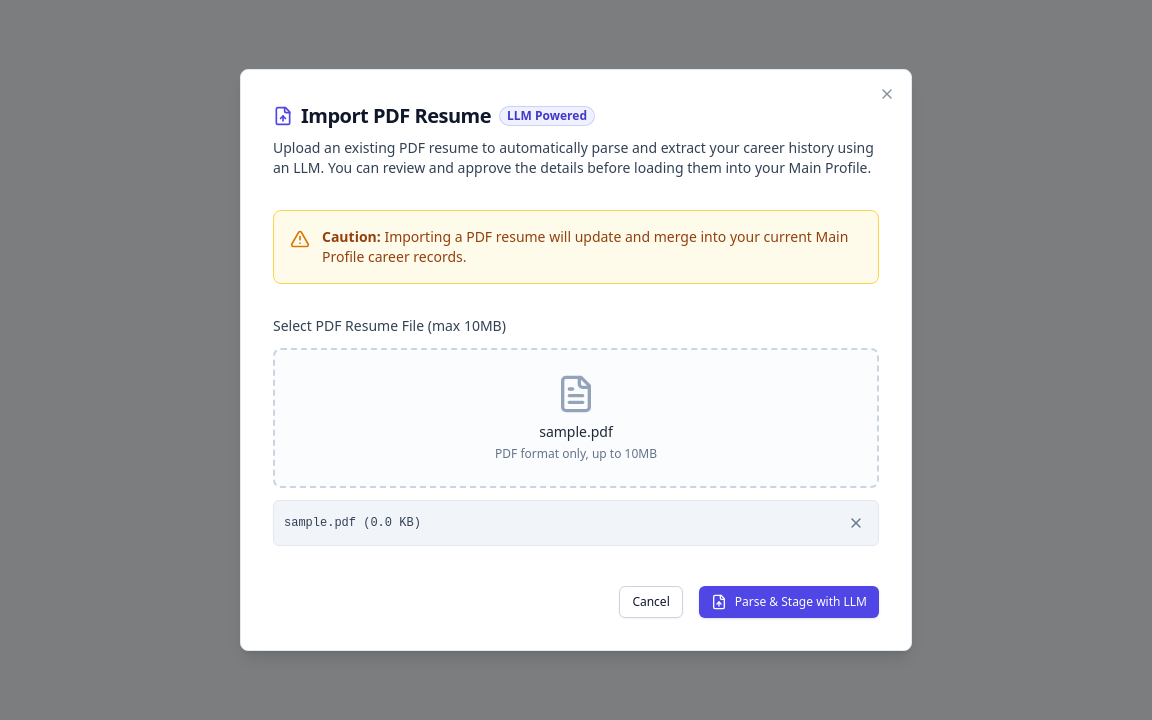
it: ImportPDFDialog › clears selected file and resets file input value when remove button is clicked
The width and height of the screenshot is (1152, 720).
Earlier steps of the test are not shown.
Expected: the text "sample.pdf" is shown, [539,422,613,442]
Click the button named "remove selected file": (856,523) [844,511,868,535]
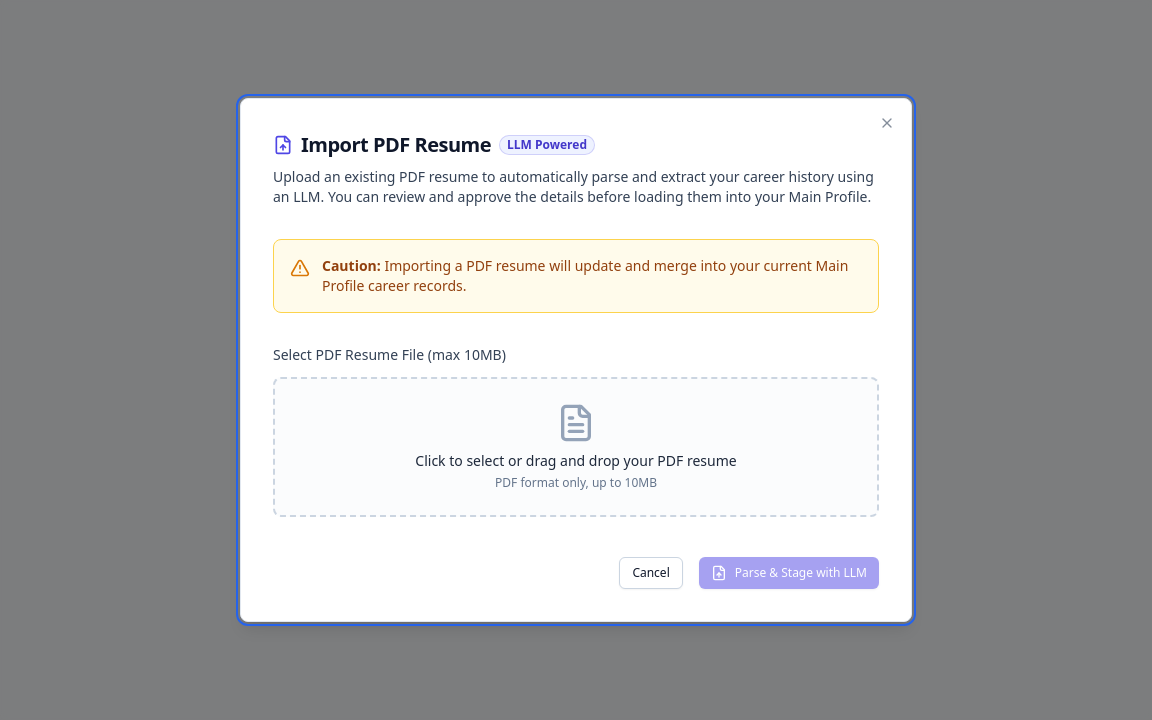
Expected: the file field labelled "Select PDF Resume File (max 10MB)" is empty, [273,345,506,364]
Now the button "sample.pdf" is gone
